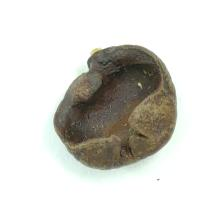NG: (53, 44, 157, 147)
